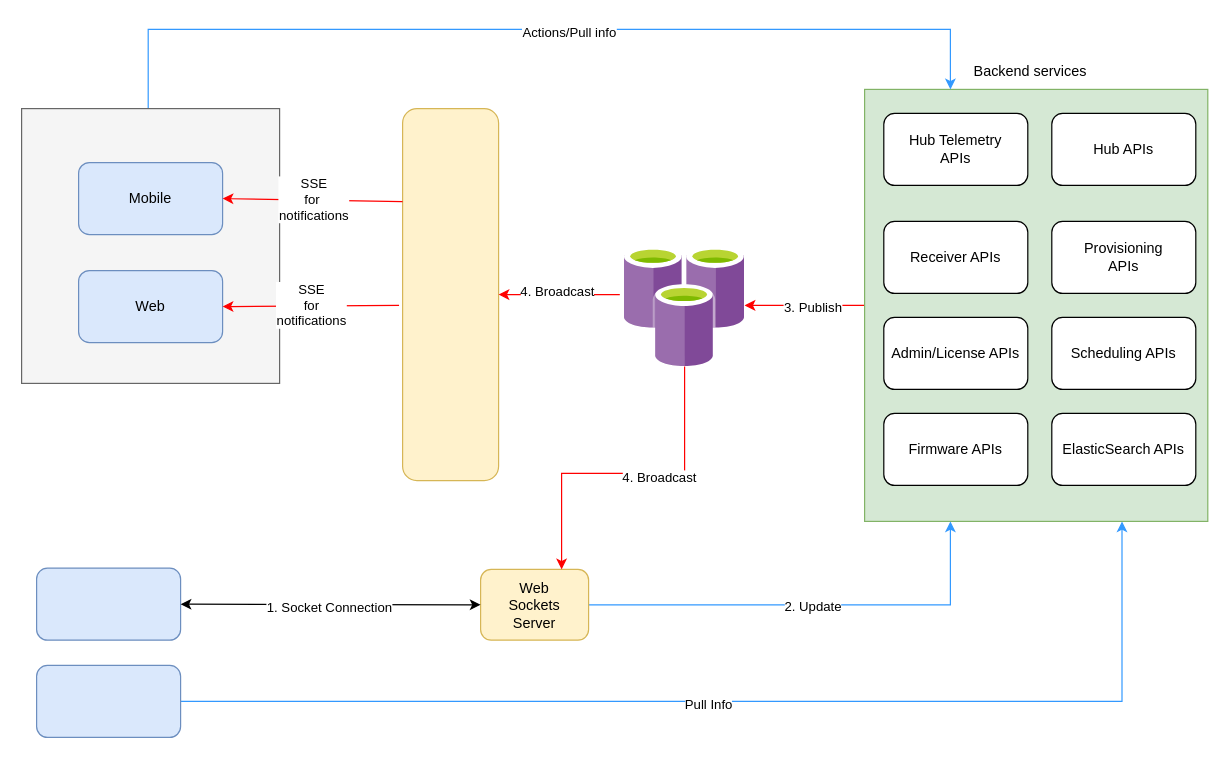
The diagram is 1229 pixels wide and 758 high, and some of its shapes have lost their labels. The box of each missing label's shape, as (x1, y1, x2, y2) in pixels:
Applications: (20, 107, 280, 383)
Hub: (35, 567, 181, 640)
Partner: (35, 664, 181, 737)
Redis Cache: (624, 246, 744, 366)
SSE Server: (401, 107, 499, 481)
